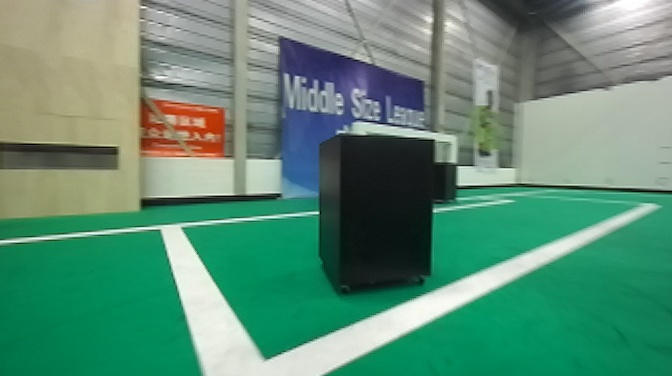goalpost: (444, 133, 459, 162)
